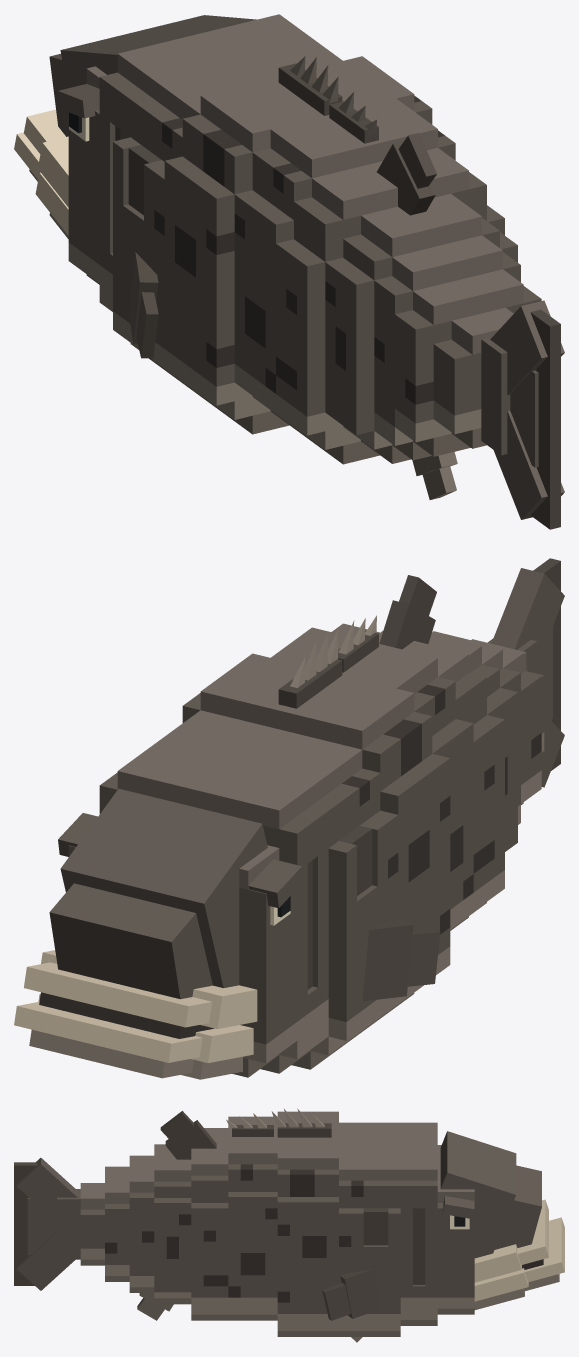
The model's file is GiantSeaBass.obj.
3 views of the same model, one above another, from view 1: azimuth 30°, elevation 25°; view 2: azimuth 150°, elevation 25°; view 3: azimuth 270°, elevation 25° (orthographic). The views are drawn at different scales.
Parts seen in each view (by area): view 1: S1, Head, S3, S2, S5, S4, Tail, S6; view 2: Head, S1, S2, S3, Tail, S5, S4; view 3: S1, Head, S2, S3, Tail, S5, S4, S6.
Part boxes in pixels (<box>): S1: <box>113,37,432,434</box>; Head: <box>14,14,309,311</box>; S3: <box>276,133,504,464</box>; S2: <box>234,91,455,441</box>; S5: <box>374,235,541,460</box>; S4: <box>325,194,517,499</box>; Tail: <box>481,300,564,529</box>; S6: <box>433,307,513,448</box>; Head: <box>14,748,328,1079</box>; S1: <box>149,628,450,1069</box>; S2: <box>271,615,473,929</box>; S3: <box>331,575,504,930</box>; Tail: <box>487,558,564,787</box>; S5: <box>431,631,541,824</box>; S4: <box>381,631,517,851</box>; S1: <box>271,1108,400,1342</box>; Head: <box>400,1122,564,1325</box>; S2: <box>226,1113,277,1320</box>; S3: <box>160,1111,228,1320</box>; Tail: <box>14,1158,80,1290</box>; S5: <box>105,1155,154,1292</box>; S4: <box>137,1144,191,1320</box>; S6: <box>80,1183,104,1265</box>.
Bounding box in the file's own units: 7.36 × 8.81 × 20.13.
1 material, 1 textured.
